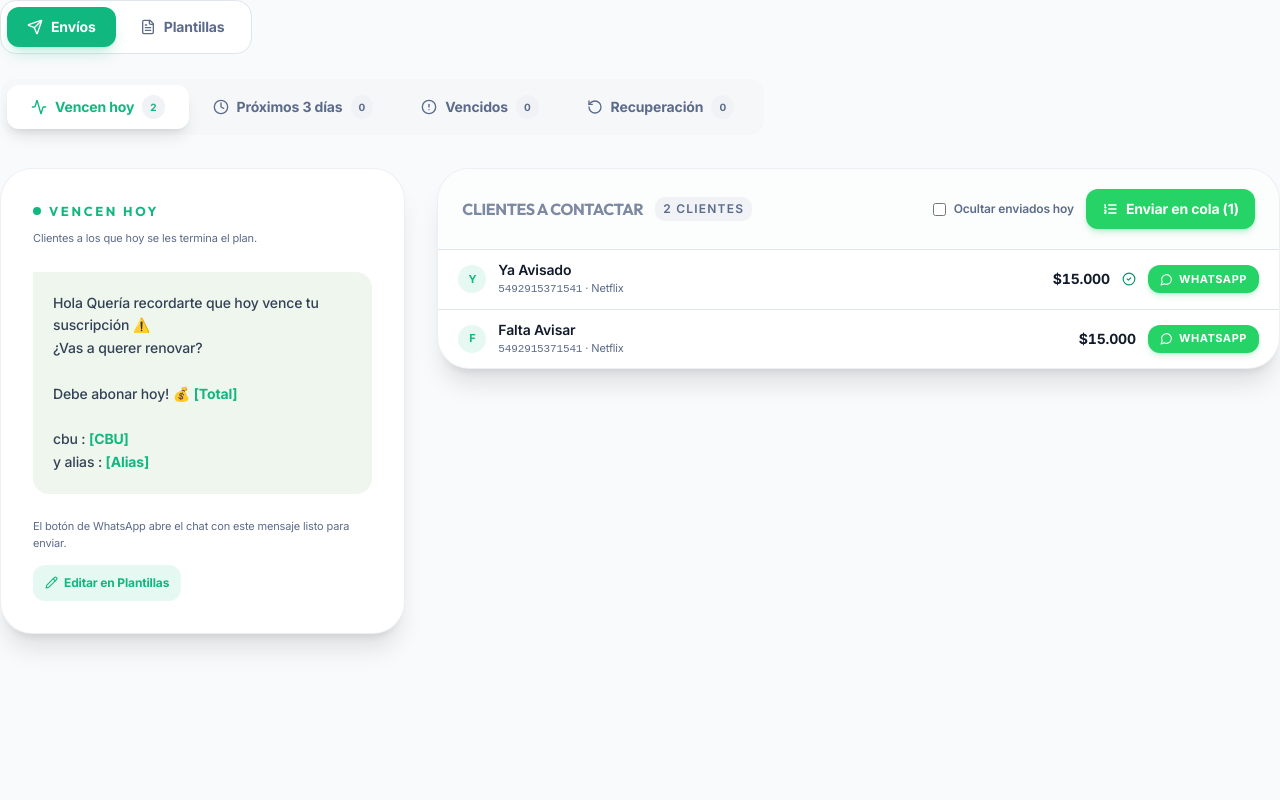
Scenario: MessagesView › la cola recorre solo a los del grupo que todavía no recibieron mensaje hoy
Click the button "Enviar en cola (1)" at (1170, 209), box [1086,189,1255,229]
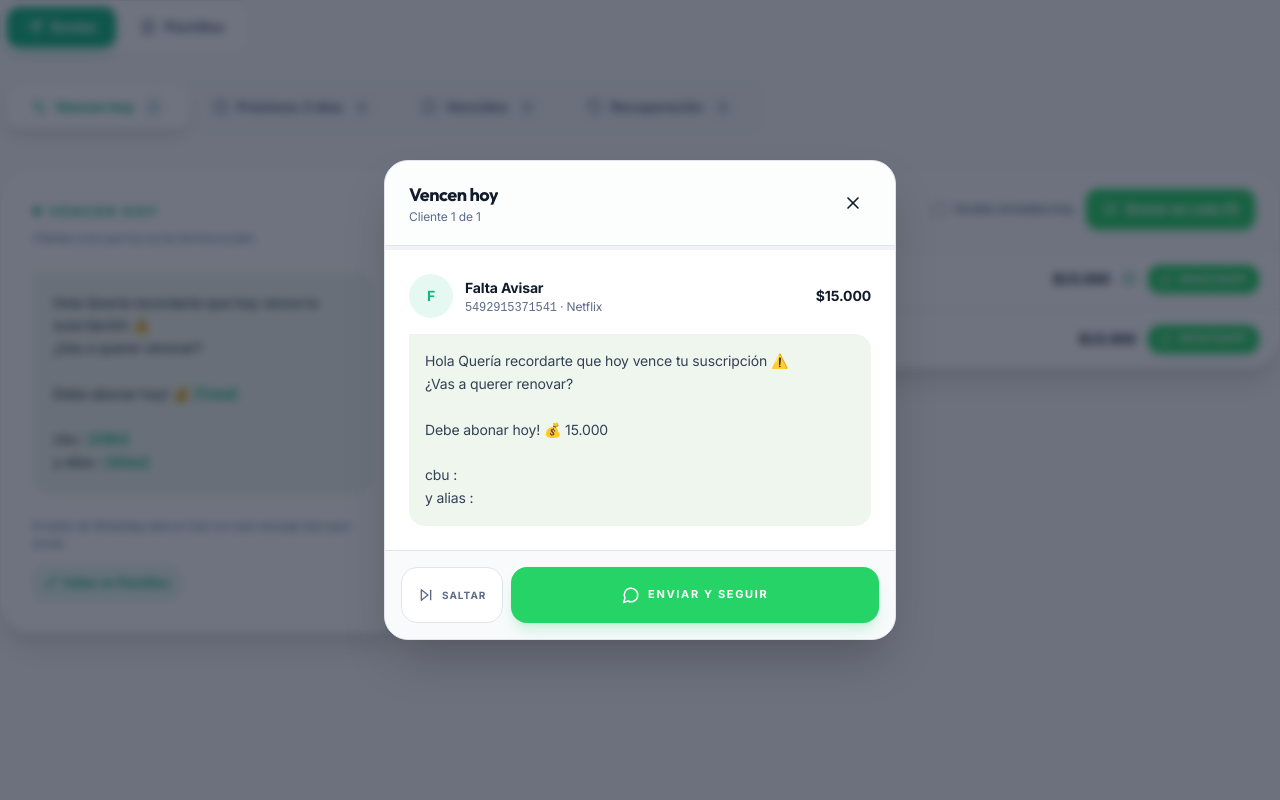
Expected: the text "Falta Avisar" is shown, [465,279,543,296]
Expected: the text "Cliente 1 de 1" is shown, [409,209,481,224]
